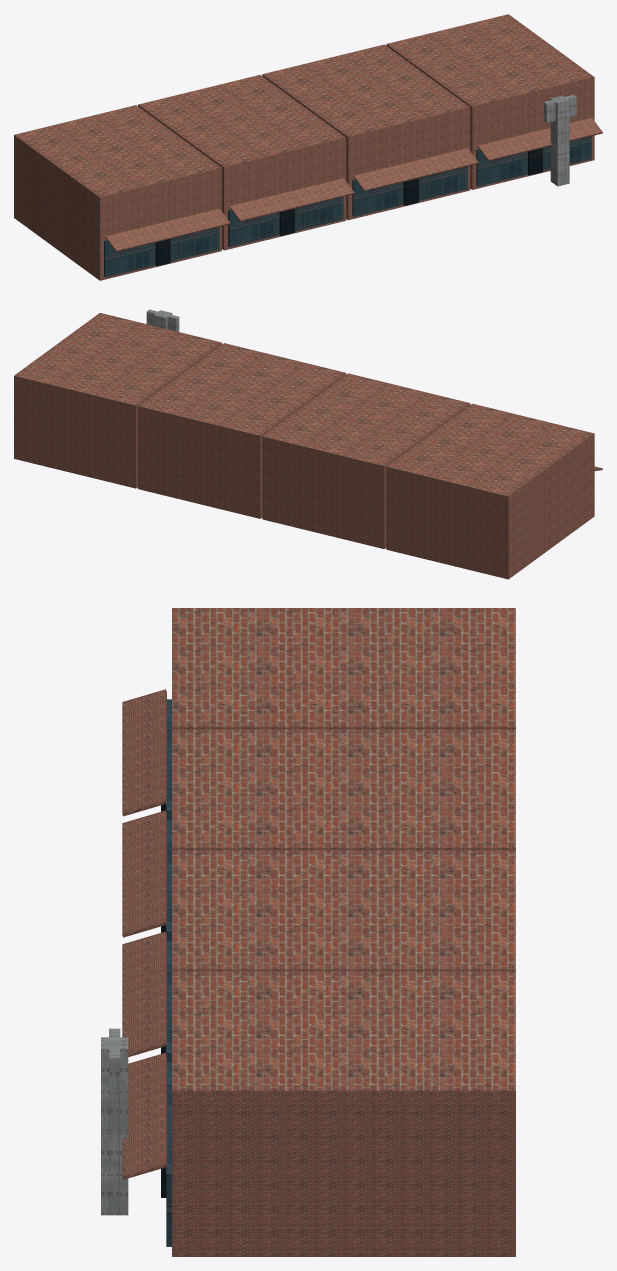
File: strip-mall_lod0.gltf
3 views of the same model, one above another, from view 1: azimuth 30°, elevation 25°; view 2: azimuth 150°, elevation 25°; view 3: azimuth 270°, elevation 25° (orthographic). The views are drawn at different scales.
Parts seen in each view (by area): view 1: strip-mall_unit0, strip-mall_unit2, strip-mall_unit1, strip-mall_unit3, strip-mall__storefront0, strip-mall__storefront2, strip-mall__storefront1, strip-mall__awning2, strip-mall__awning0, strip-mall__awning1, strip-mall__storefront3, strip-mall__awning3 (+3 smaller); view 2: strip-mall_unit0, strip-mall_unit2, strip-mall_unit1, strip-mall_unit3; view 3: strip-mall_unit3, strip-mall_unit0, strip-mall_unit1, strip-mall_unit2, strip-mall__awning0, strip-mall__awning1, strip-mall__awning2, strip-mall__awning3, strip-mall__pylon, strip-mall__storefront3.
Part boxes in pixels (x1,y1,x2,y2): strip-mall_unit0: (14,105,221,280); strip-mall_unit2: (262,44,470,220); strip-mall_unit1: (138,75,346,250); strip-mall_unit3: (386,14,594,189); strip-mall__storefront0: (104,227,219,277); strip-mall__storefront2: (352,166,467,216); strip-mall__storefront1: (228,197,343,247); strip-mall__awning2: (353,148,478,191); strip-mall__awning0: (105,209,230,252); strip-mall__awning1: (229,178,354,221); strip-mall__storefront3: (476,136,591,186); strip-mall__awning3: (477,118,602,161); strip-mall_unit0: (386,403,594,579); strip-mall_unit2: (138,343,346,518); strip-mall_unit1: (262,373,470,548); strip-mall_unit3: (14,313,221,488); strip-mall_unit3: (172,971,515,1256); strip-mall_unit0: (172,608,515,729); strip-mall_unit1: (172,729,515,850); strip-mall_unit2: (172,850,515,971); strip-mall__awning0: (122,689,166,816); strip-mall__awning1: (122,810,166,937); strip-mall__awning2: (122,931,166,1056); strip-mall__awning3: (122,1052,166,1179); strip-mall__pylon: (101,1037,128,1215); strip-mall__storefront3: (166,1062,171,1246).
Size of the model in its own units: 49.8 by 8 by 18.1.
